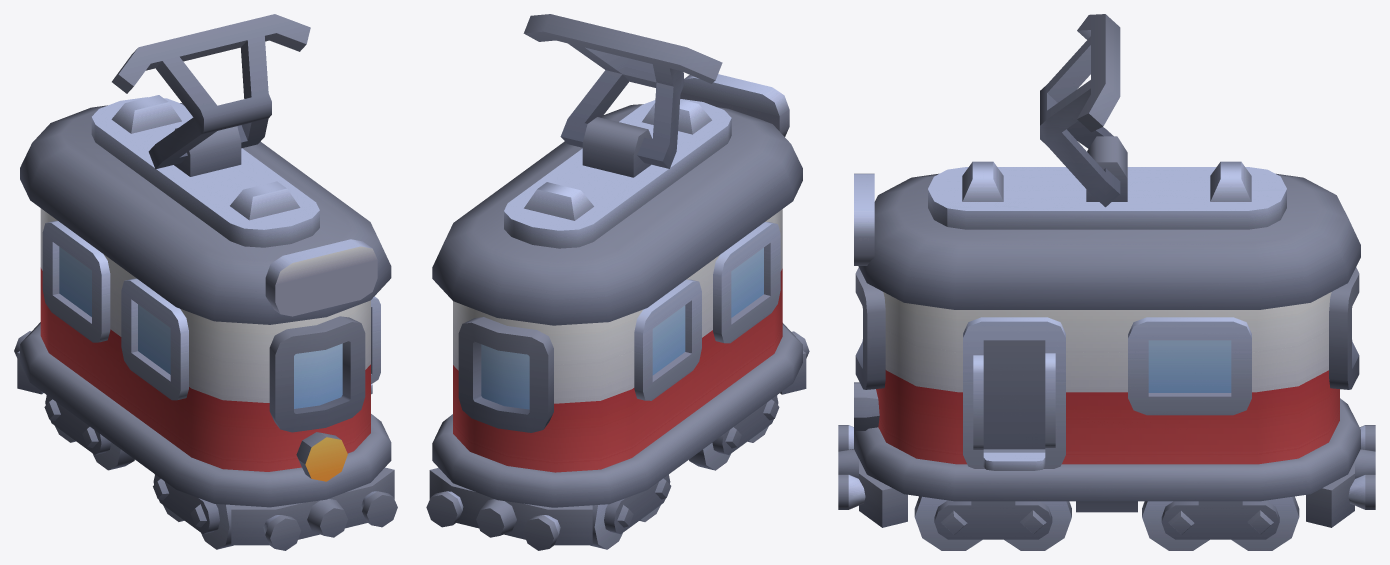
Rendered from train-tram-round.glb.
3 views of the same model, side by side, from view 1: azimuth 30°, elevation 25°; view 2: azimuth 150°, elevation 25°; view 3: azimuth 270°, elevation 25° (orthographic). The views are drawn at different scales.
Visible parts, largest first — view 1: train-tram-round; view 2: train-tram-round; view 3: train-tram-round.
Boxes of the visible parts, x1=… form: train-tram-round: x1=14, y1=14, x2=397, y2=550; train-tram-round: x1=426, y1=14, x2=809, y2=550; train-tram-round: x1=838, y1=14, x2=1375, y2=550.
Size of the model in its own units: 1.25 by 2.49 by 2.6.
Materials: 1 (1 with a texture image).
